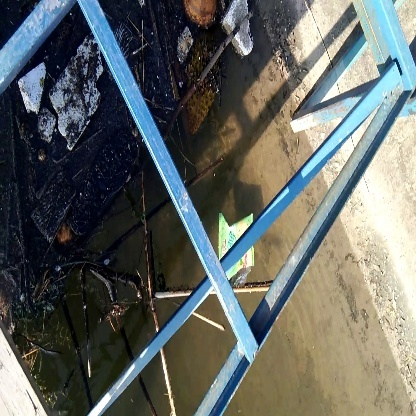branch: (51, 269, 104, 409)
